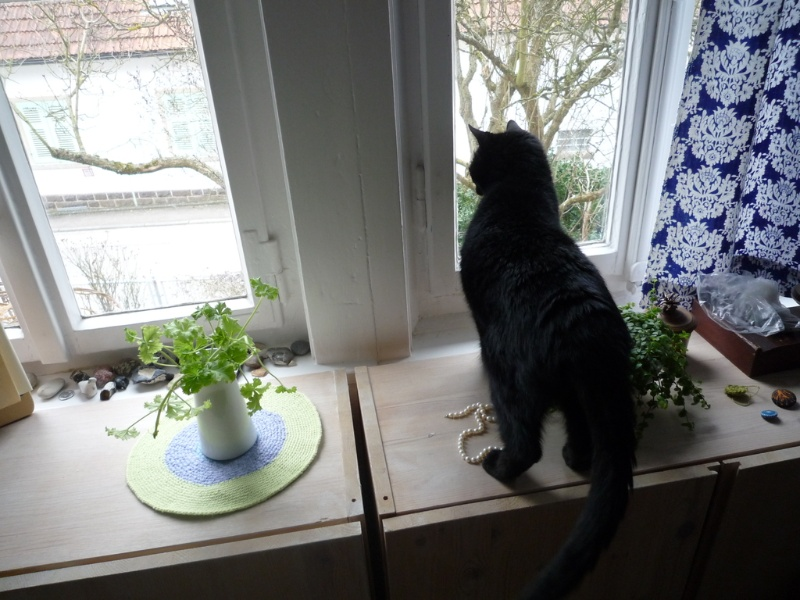cat: (449, 105, 641, 600)
